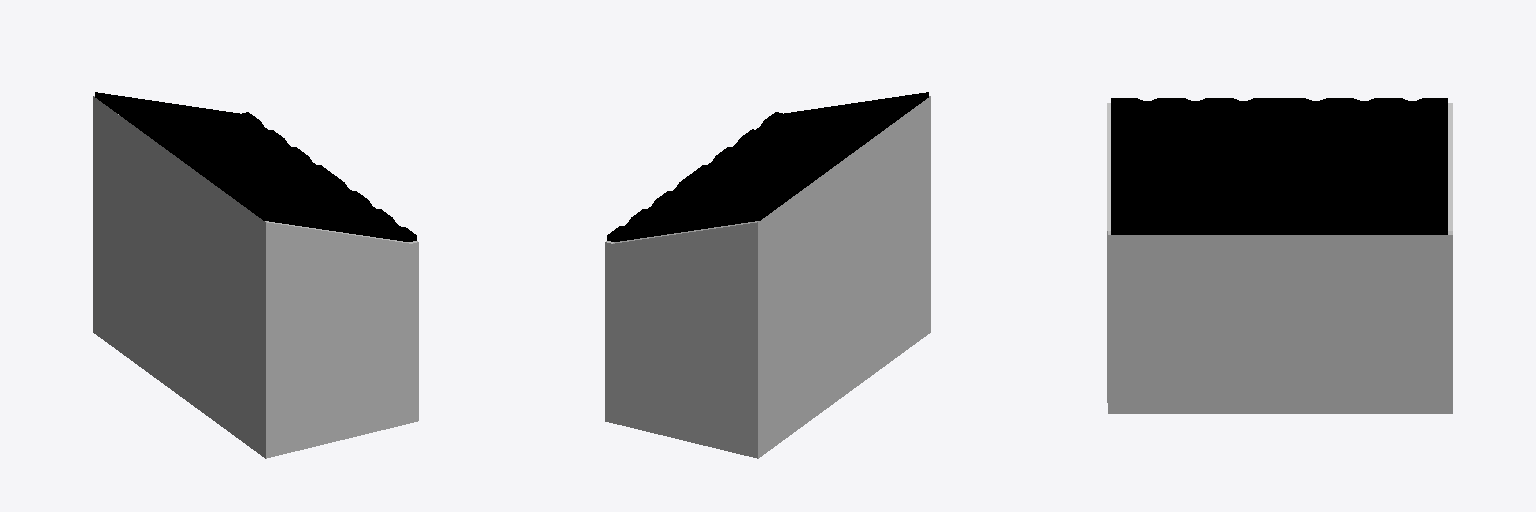
File: TrashContainer.obj
3 views of the same model, side by side, from view 1: azimuth 30°, elevation 25°; view 2: azimuth 150°, elevation 25°; view 3: azimuth 270°, elevation 25° (orthographic).
Parts seen in each view (by area): view 1: Cube, Plane.001, Plane.002; view 2: Cube, Plane.002, Plane.001; view 3: Cube, Plane.001, Plane.002.
Part boxes in pixels (x1,y1,x2,y2): Cube: (93, 96, 418, 458); Plane.001: (179, 154, 416, 241); Plane.002: (95, 92, 331, 174); Cube: (605, 96, 930, 458); Plane.002: (607, 154, 844, 241); Plane.001: (692, 92, 928, 174); Cube: (1107, 103, 1452, 413); Plane.001: (1111, 98, 1279, 234); Plane.002: (1280, 98, 1447, 234).
Bounding box in the file's own units: 2.1 × 3.17 × 4.1.